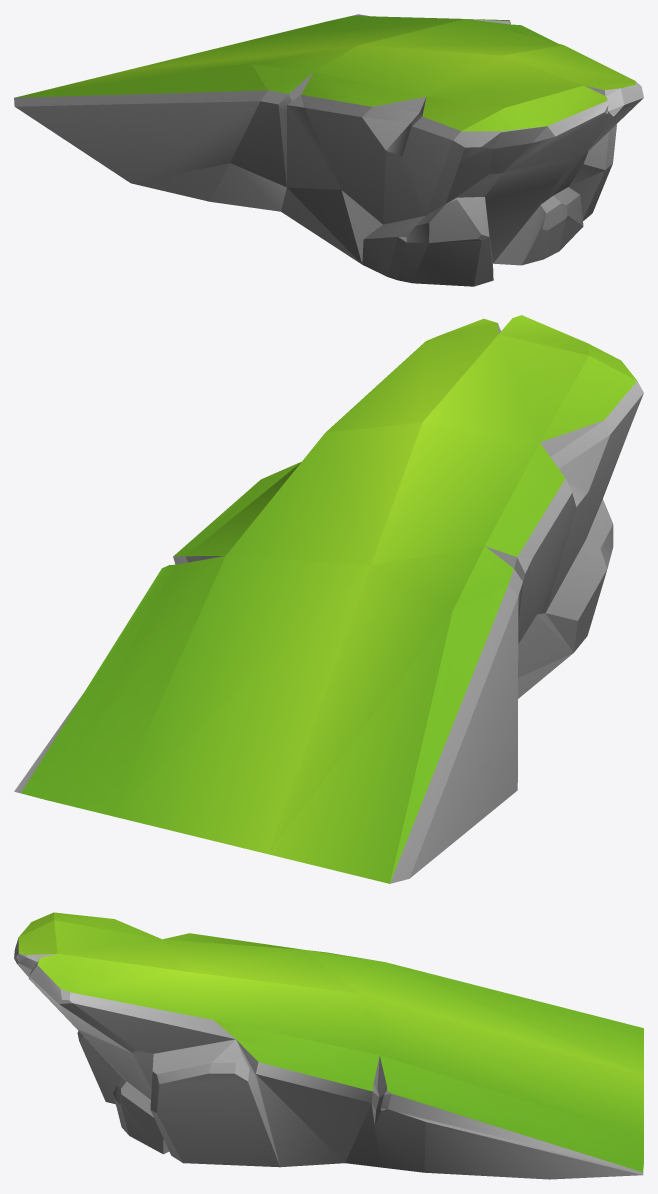
File: Terrain_Cliff_2.fbx
3 views of the same model, one above another, from view 1: azimuth 30°, elevation 25°; view 2: azimuth 150°, elevation 25°; view 3: azimuth 270°, elevation 25° (orthographic). The views are drawn at different scales.
Visible parts, largest first — view 1: Terrain_Cliff_2; view 2: Terrain_Cliff_2; view 3: Terrain_Cliff_2.
Boxes of the visible parts, left/top/right/bottom form: Terrain_Cliff_2: left=14, top=14, right=643, bottom=286; Terrain_Cliff_2: left=14, top=315, right=643, bottom=883; Terrain_Cliff_2: left=14, top=912, right=643, bottom=1179.
Size of the model in its own units: 0.2366 by 0.1247 by 0.405.
